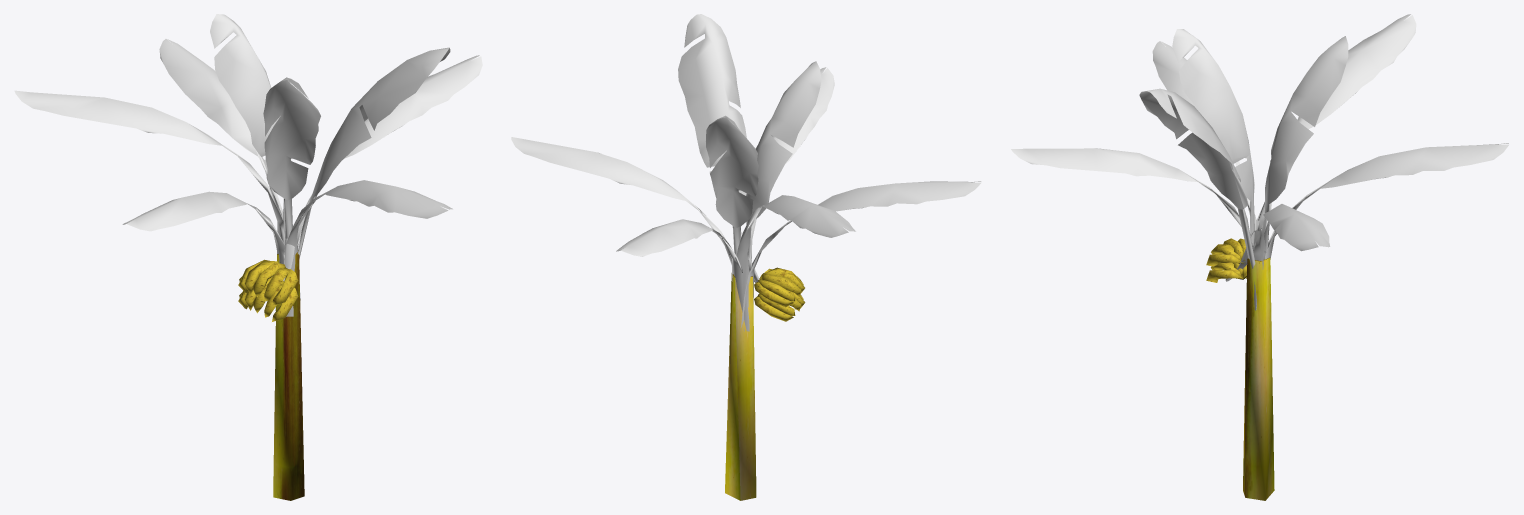
Rendered from BananaTree.fbx.
3 views of the same model, side by side, from view 1: azimuth 30°, elevation 25°; view 2: azimuth 150°, elevation 25°; view 3: azimuth 270°, elevation 25° (orthographic). The views are drawn at different scales.
Visible parts, largest first — view 1: BananaTree_LOD0; view 2: BananaTree_LOD0; view 3: BananaTree_LOD0.
Boxes of the visible parts, <box> form: BananaTree_LOD0: <box>14,14,482,500</box>; BananaTree_LOD0: <box>511,14,981,500</box>; BananaTree_LOD0: <box>1011,14,1508,500</box>.
Size of what is drawn, in the model's own units: 594 by 599 by 601.
